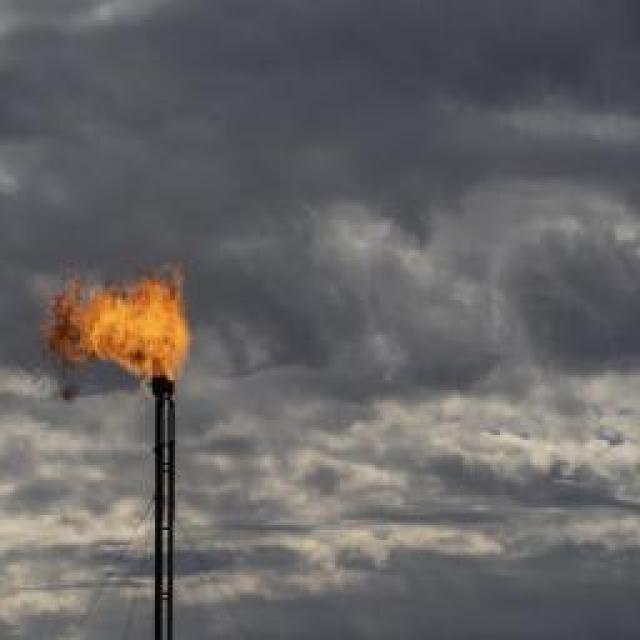fire: (30, 262, 191, 396)
